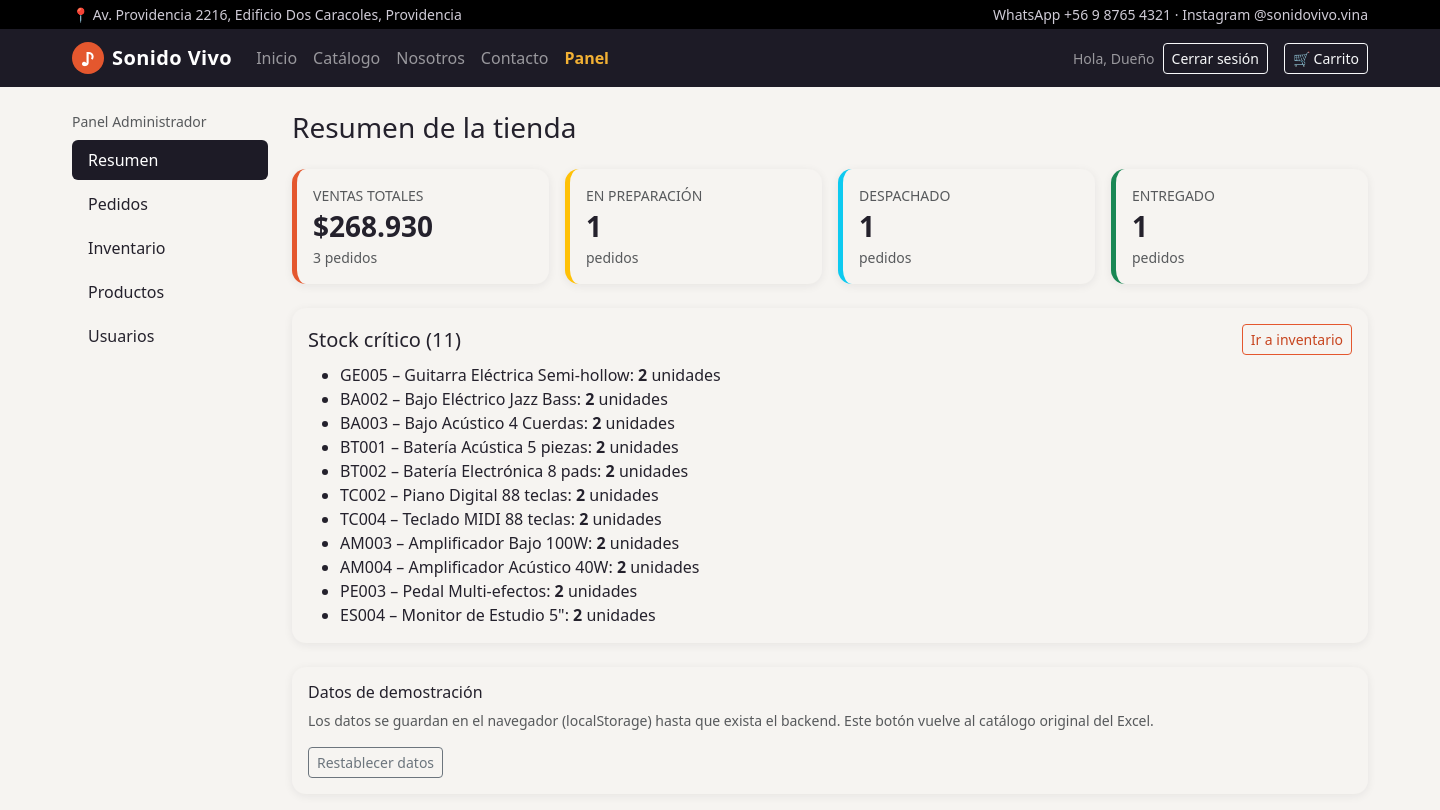
Test: Panel de administración › el resumen muestra ventas totales y permite restablecer los datos
This screenshot has width=1440, height=810.
Expected: the text "$268.930" is shown, left=313, top=207, right=433, bottom=245
Click the button "Restablecer datos" at (376, 763), box left=308, top=747, right=443, bottom=778
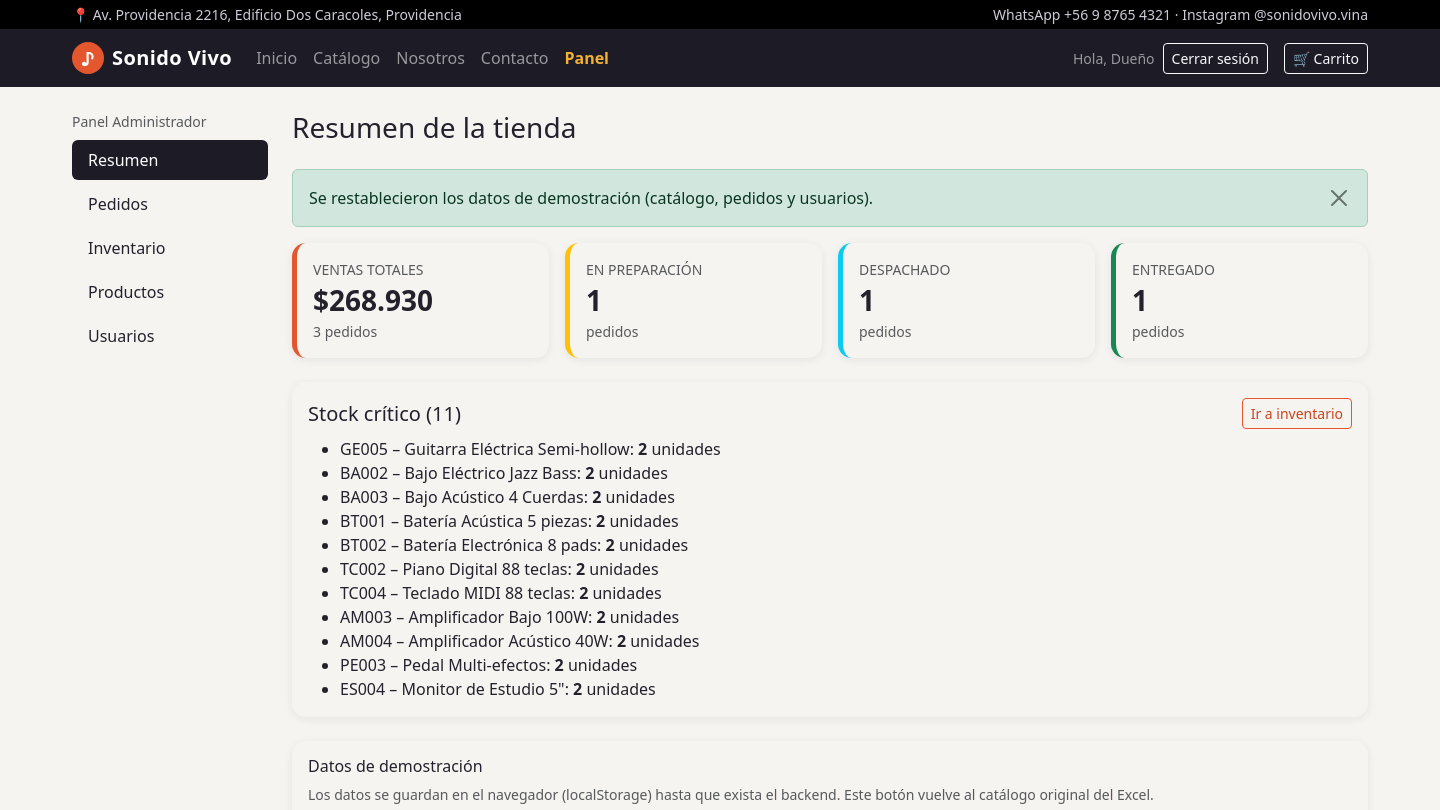
Now the text "Se restablecieron los datos" is shown, box left=309, top=187, right=873, bottom=209
